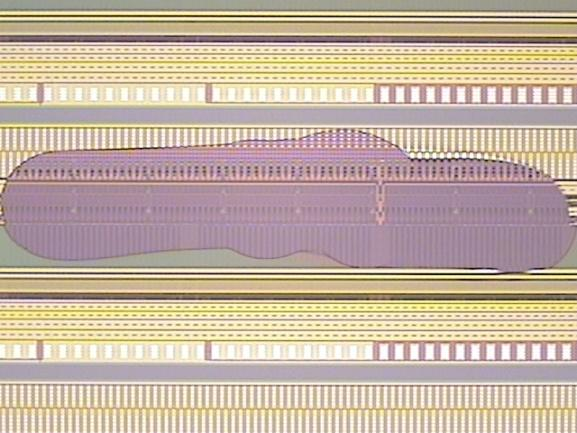COATING BAD: (1, 121, 577, 280)
